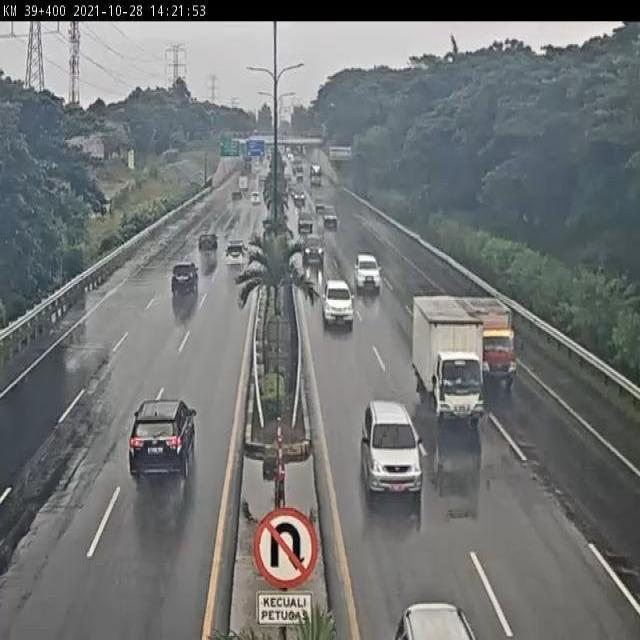car: (359, 401, 423, 491), (128, 400, 196, 479), (322, 281, 355, 327), (355, 252, 382, 293), (170, 260, 200, 296), (224, 242, 249, 270), (303, 235, 326, 264), (199, 232, 221, 256)
truck-m-: (412, 296, 487, 423)
truck-s-: (465, 297, 518, 387)
